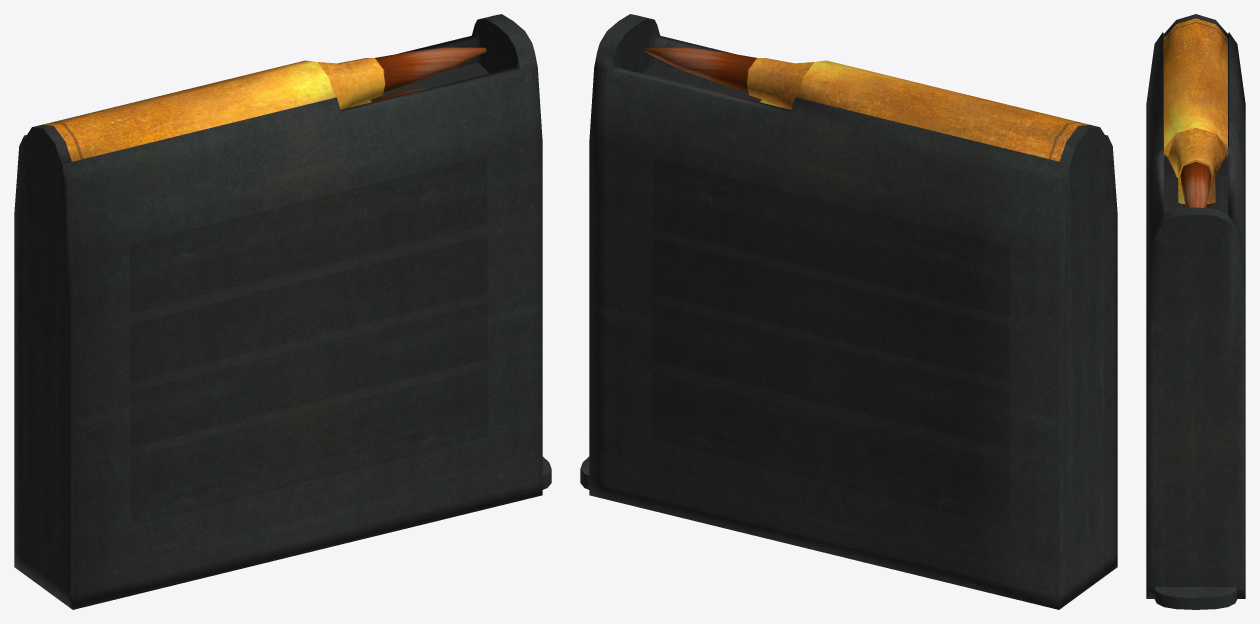
Rendered from Lipas.FBX.
The picture shows the model from 3 angles, left to right: view 1: azimuth 30°, elevation 25°; view 2: azimuth 150°, elevation 25°; view 3: azimuth 270°, elevation 25°; orthographic projection. The views are drawn at different scales.
Visible parts, largest first — view 1: Box268; view 2: Box268; view 3: Box268.
Boxes of the visible parts, x1,y1,x2,y2 form: Box268: [14, 14, 551, 609]; Box268: [580, 14, 1117, 609]; Box268: [1146, 14, 1245, 609].
Bounding box in the file's own units: 24.18 × 21.43 × 4.94.
